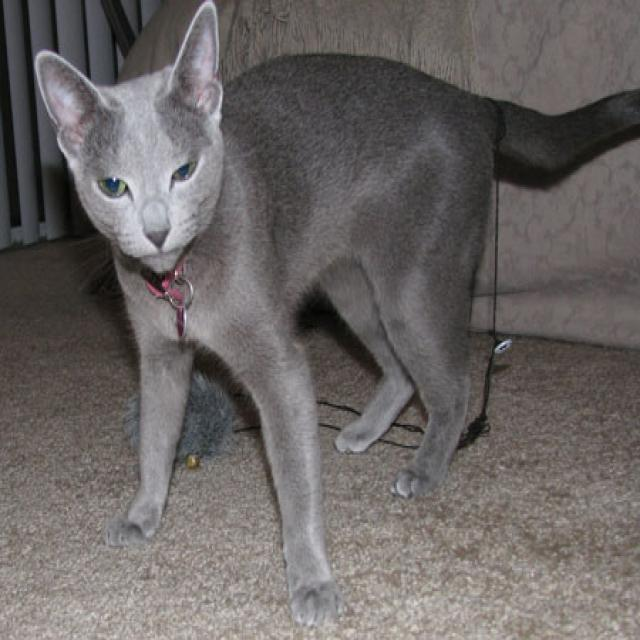Russian_Blue: (34, 0, 226, 276)
